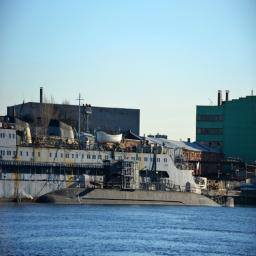submarine: (35, 160, 241, 204)
